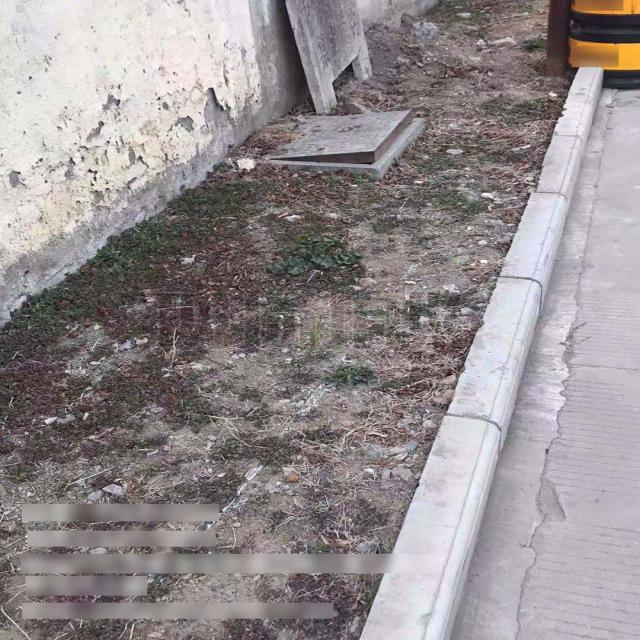Lose: (256, 109, 425, 175)
